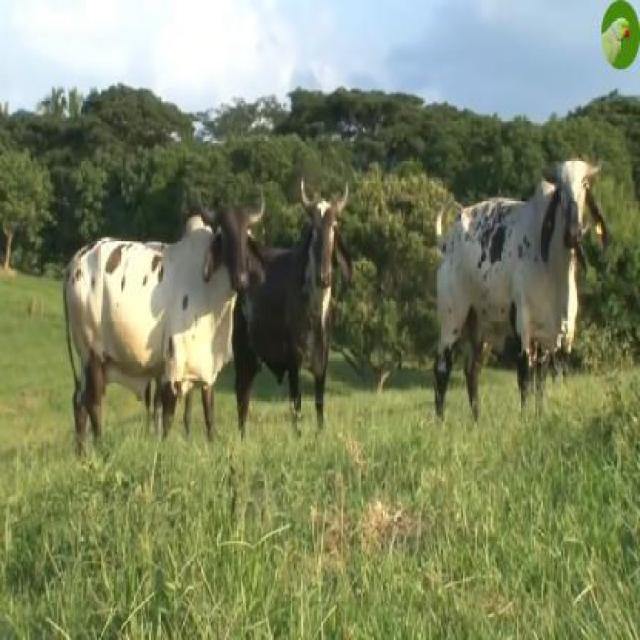Cow: (60, 185, 263, 480), (435, 143, 603, 435), (238, 180, 352, 442)
